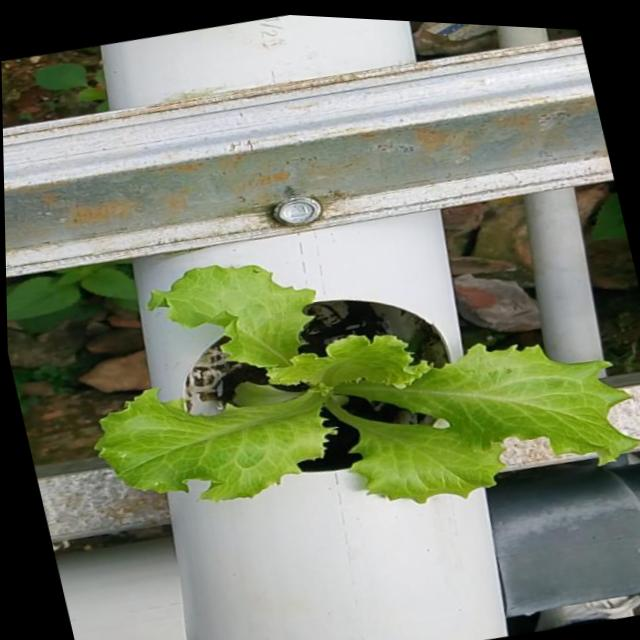Baby: (89, 256, 639, 495)
